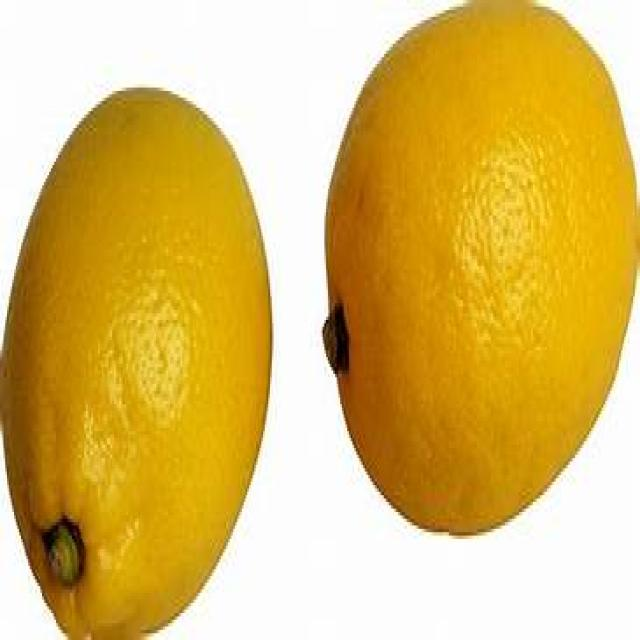Lemon: (320, 0, 640, 539), (0, 86, 274, 640)
